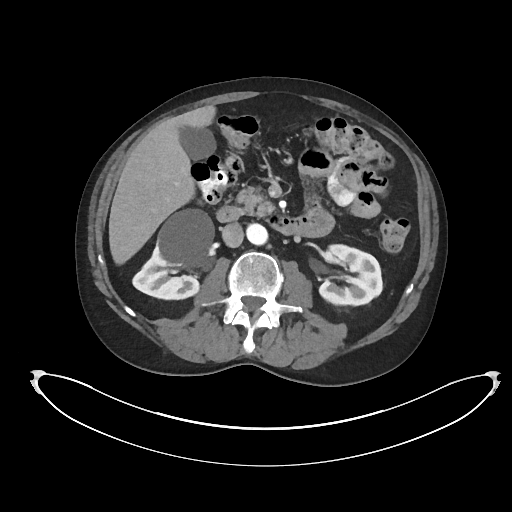Lesion: (152, 204, 216, 270)
